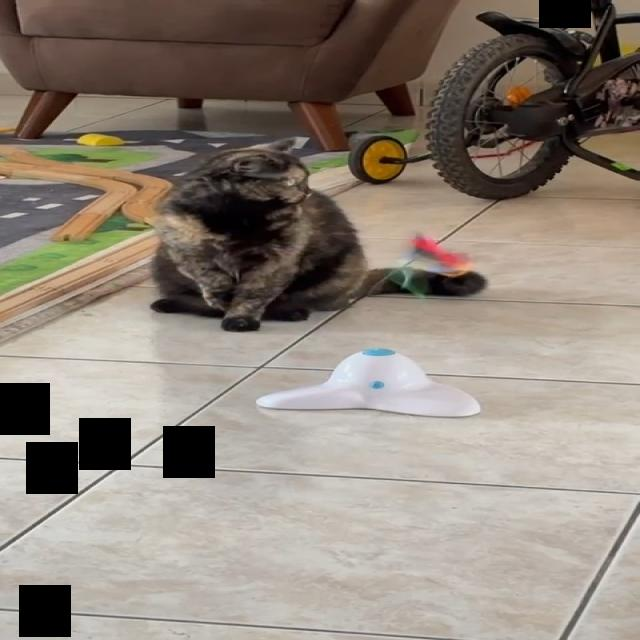authorized: (148, 136, 487, 332)
